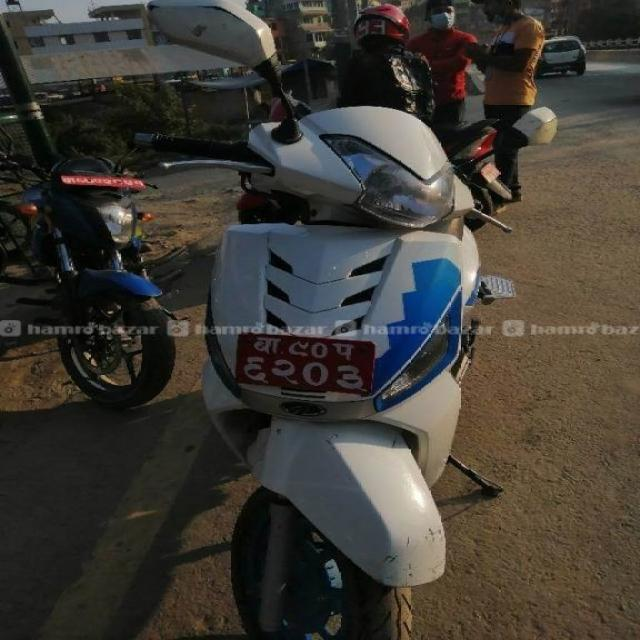License-plate: (236, 325, 376, 400), (56, 172, 144, 193)
